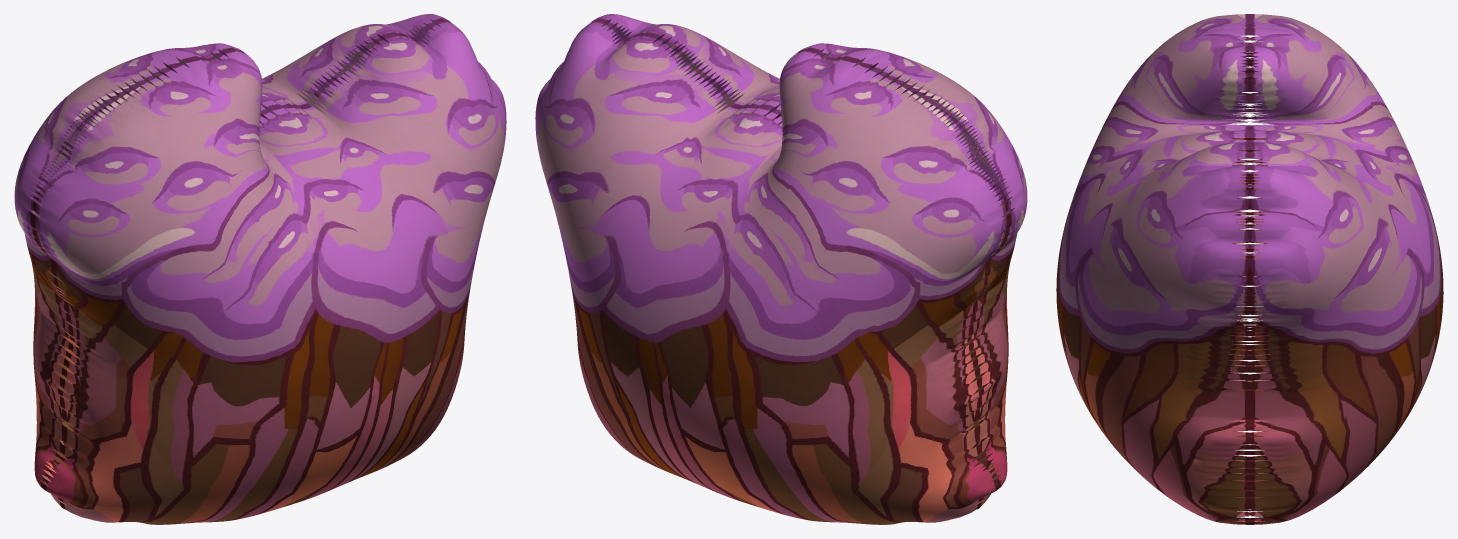
The model's file is purple_ledge.glb.
3 views of the same model, side by side, from view 1: azimuth 30°, elevation 25°; view 2: azimuth 150°, elevation 25°; view 3: azimuth 270°, elevation 25° (orthographic). The views are drawn at different scales.
Visible parts, largest first — view 1: purple_ledge; view 2: purple_ledge; view 3: purple_ledge.
Part boxes in pixels (bbox=[...]): purple_ledge: bbox=[14, 14, 506, 524]; purple_ledge: bbox=[535, 14, 1027, 524]; purple_ledge: bbox=[1056, 14, 1443, 524].
Bounding box in the file's own units: 0.9889 × 0.9258 × 0.7645.
1 material, 1 textured.
